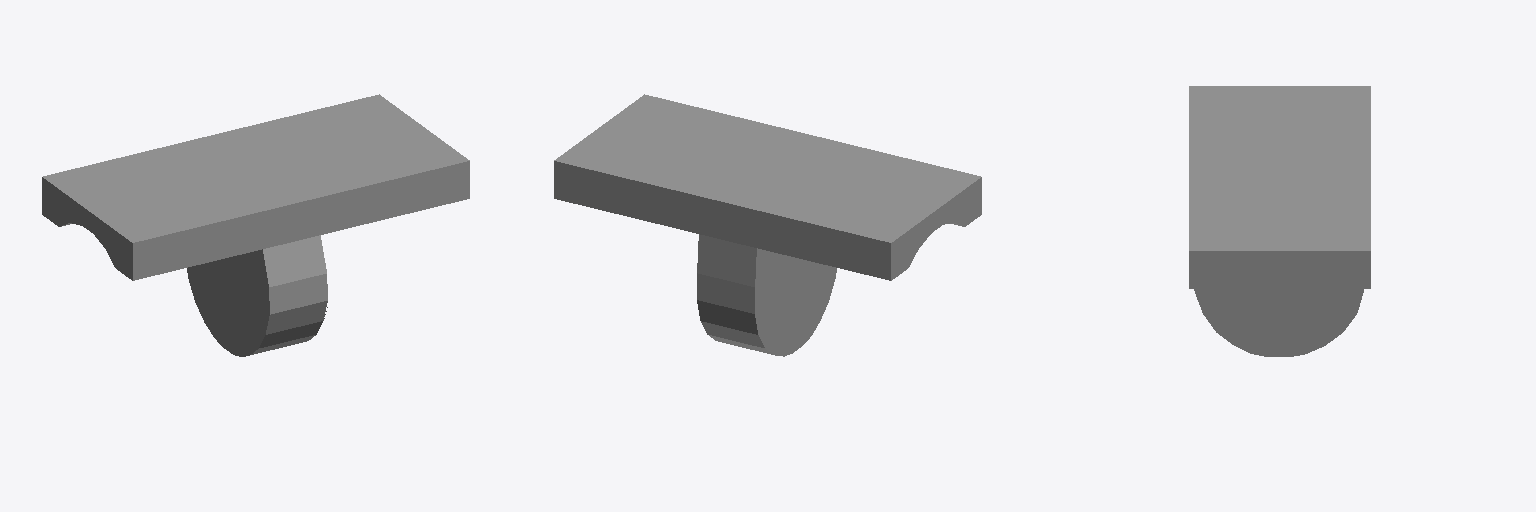
The model's file is legoLowerBody.obj.
3 views of the same model, side by side, from view 1: azimuth 30°, elevation 25°; view 2: azimuth 150°, elevation 25°; view 3: azimuth 270°, elevation 25° (orthographic).
Visible parts, largest first — view 1: Mesh_Default; view 2: Mesh_Default; view 3: Mesh_Default.
Part boxes in pixels (x1,y1,x2,y2): Mesh_Default: (42,94,469,356); Mesh_Default: (554,94,981,356); Mesh_Default: (1189,86,1370,356).
Bounding box in the file's own units: 2.2 × 1.09 × 1.03.